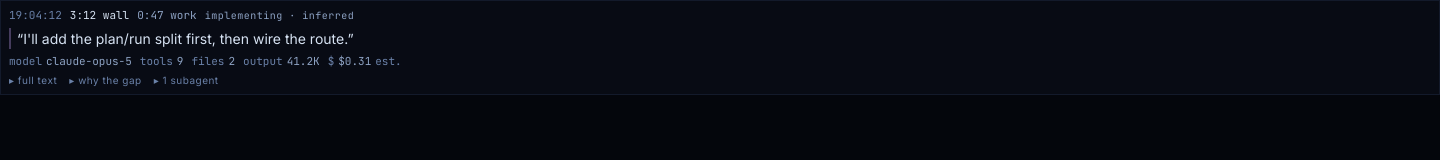
Test: refusals and subagents › nests subagents, collapsed by default, expanding to their own reading
Click the button with test id "interaction-subagents-toggle".
click(186, 80)  # box [154, 73, 219, 88]
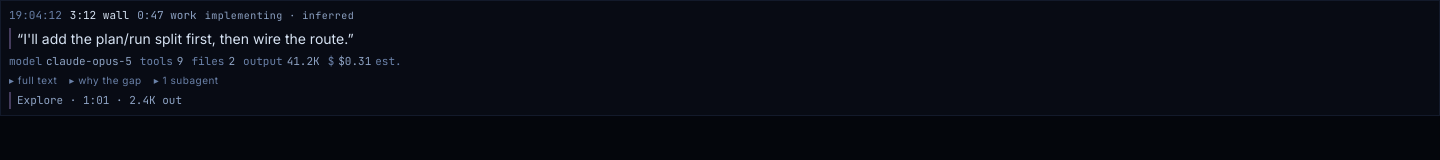
Now the list item with test id "interaction-subagent" shows "Explore", box [17, 93, 63, 107]
Now the list item with test id "interaction-subagent" shows "1:01", box [83, 93, 109, 107]
